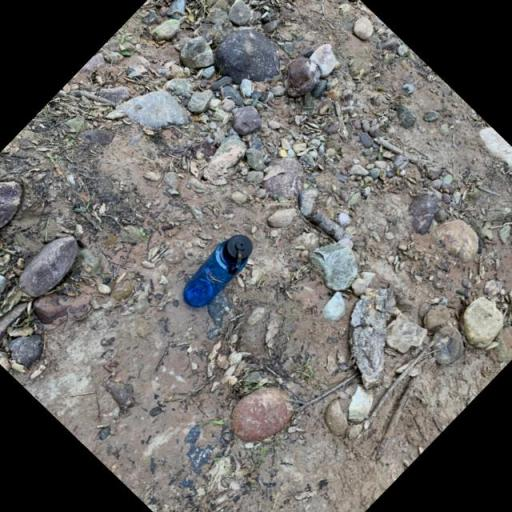bottle: (173, 227, 261, 316)
